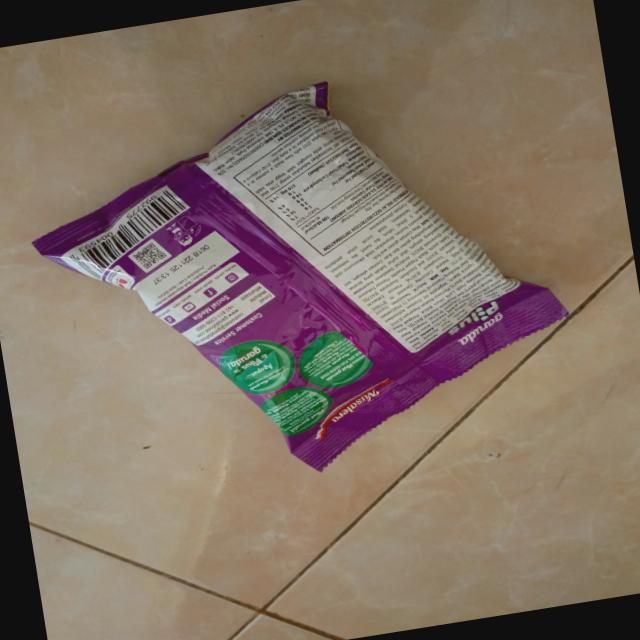pilus-rendang: (11, 49, 582, 514)
